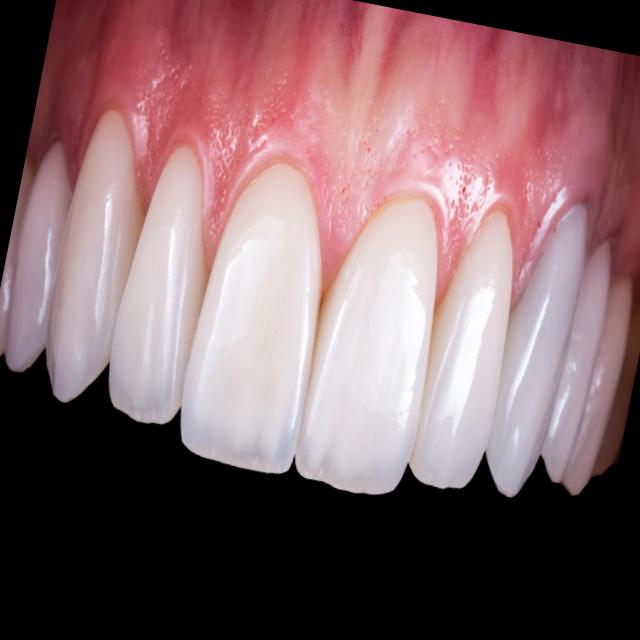Tooth: (181, 163, 322, 475), (295, 197, 438, 494), (486, 204, 587, 498), (409, 210, 512, 490), (46, 110, 143, 404), (109, 146, 209, 424), (541, 239, 612, 483)
